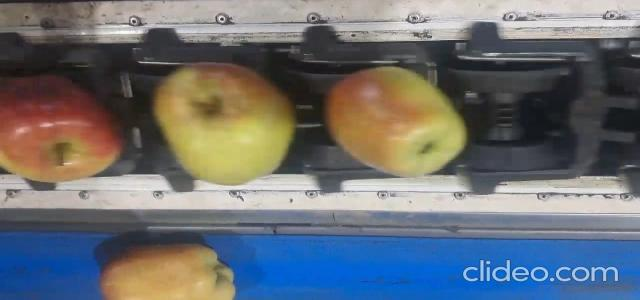apple: (154, 64, 295, 185), (325, 67, 466, 176), (0, 75, 121, 182)
